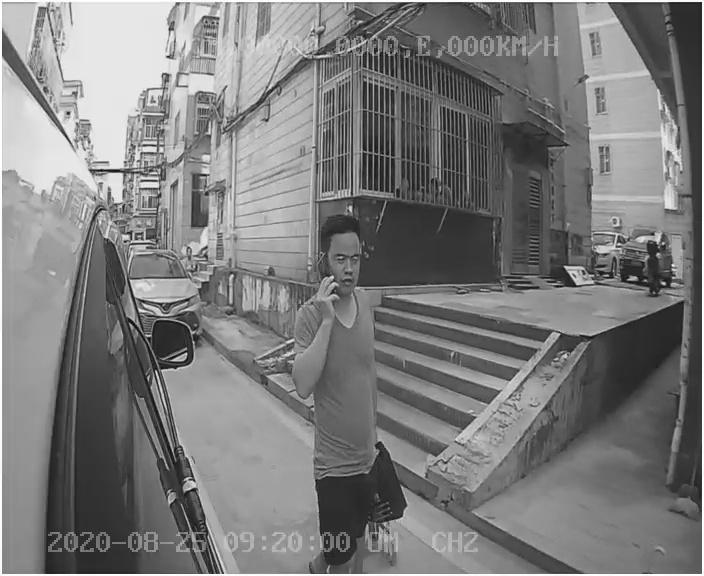person: (277, 210, 429, 536)
